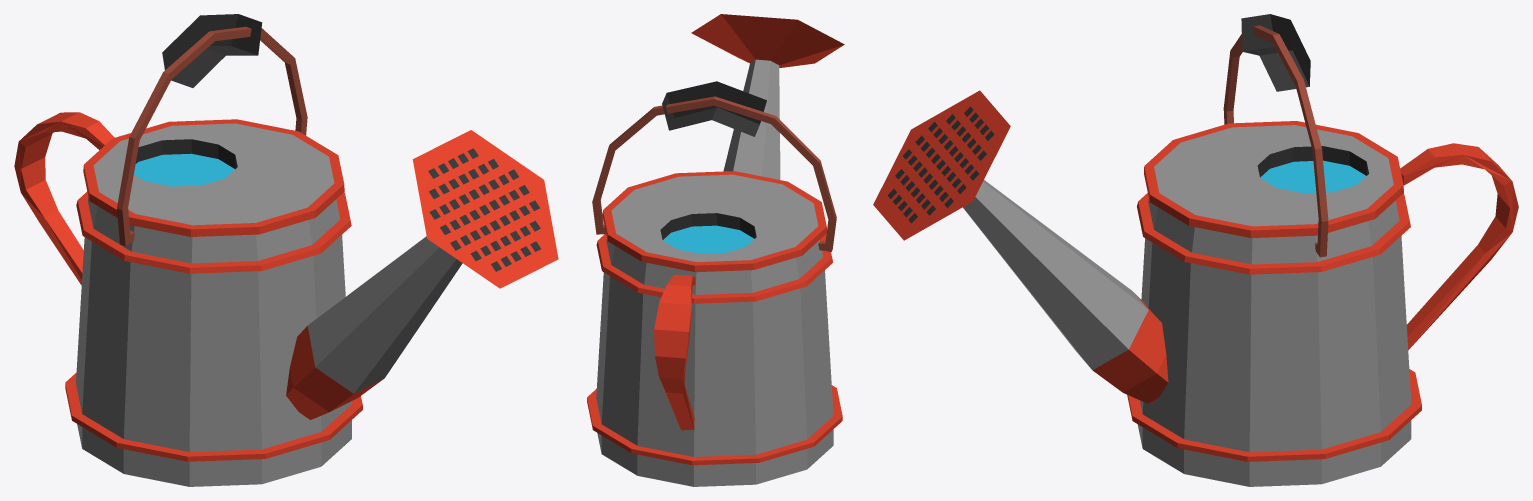
The model's file is wateringCan-positioned.glb.
The picture shows the model from 3 angles, left to right: view 1: azimuth 30°, elevation 25°; view 2: azimuth 150°, elevation 25°; view 3: azimuth 270°, elevation 25°; orthographic projection. The views are drawn at different scales.
Visible parts, largest first — view 1: Cilindro.031; view 2: Cilindro.031; view 3: Cilindro.031.
Part boxes in pixels (box(x1,y1,x2,y2)): Cilindro.031: box(14, 14, 558, 486); Cilindro.031: box(587, 14, 844, 486); Cilindro.031: box(873, 14, 1518, 486).
Size of the model in its own units: 0.4385 by 0.5557 by 0.8001.
